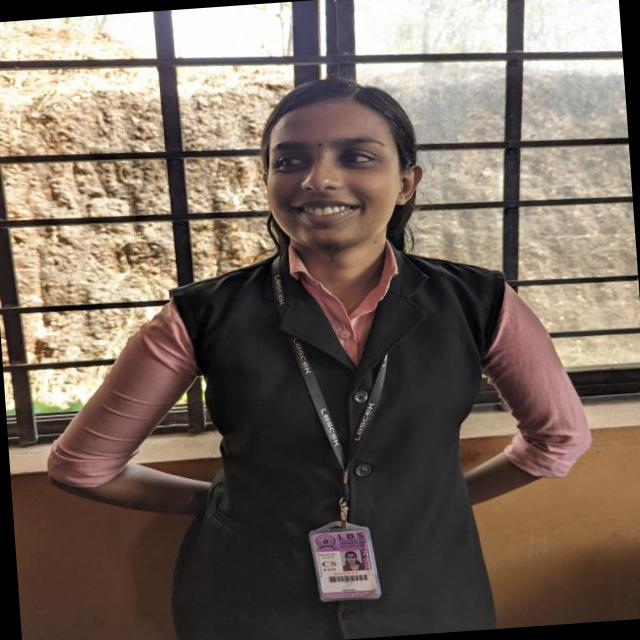id_card: (271, 250, 422, 606)
